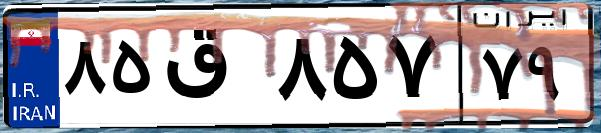5: (330, 28, 385, 110), (110, 28, 158, 98)
7: (385, 28, 445, 110), (475, 38, 525, 113)
8: (270, 28, 330, 110), (57, 26, 110, 100)
9: (525, 38, 570, 115)
ق: (158, 20, 270, 120)
